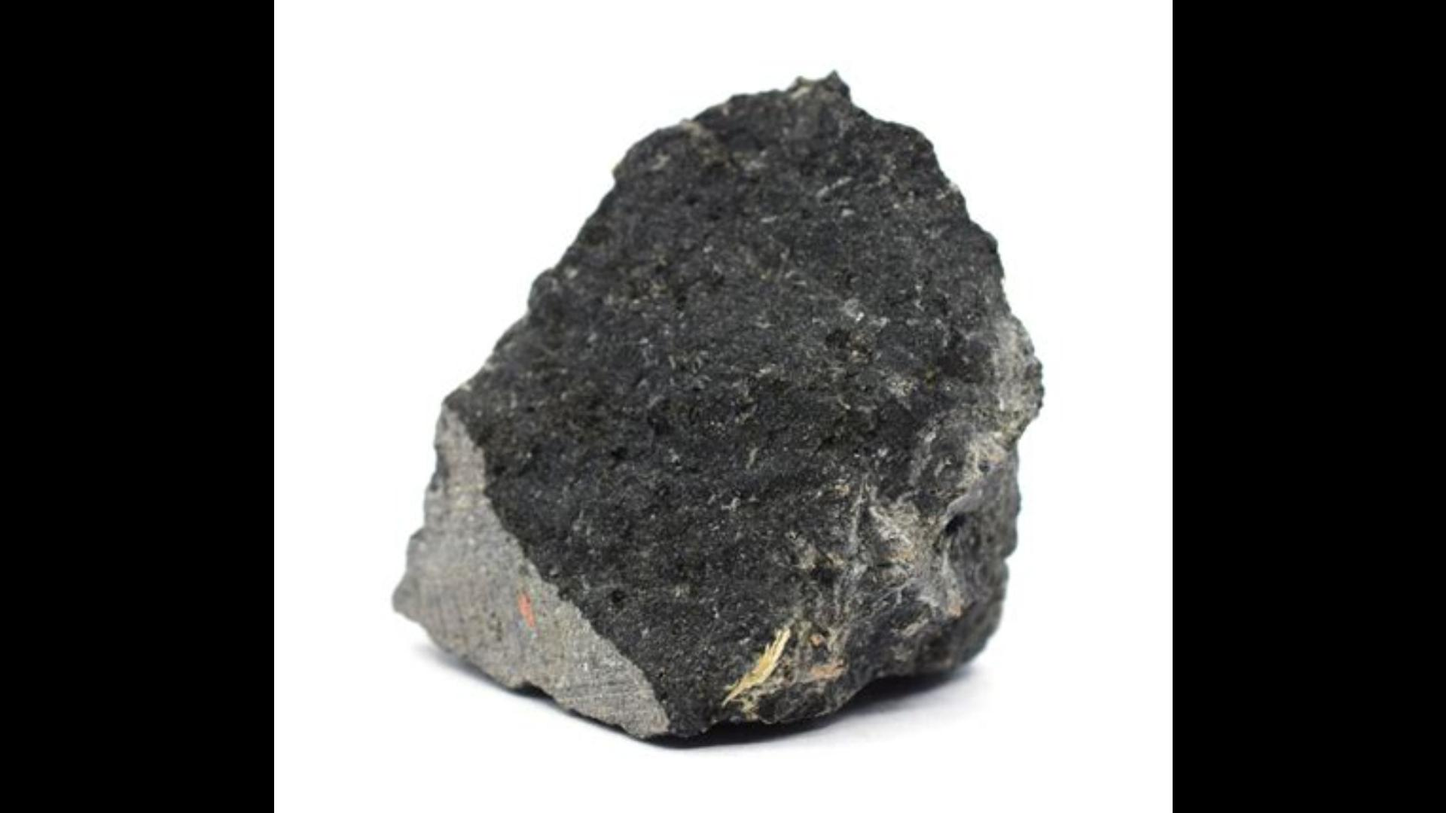rock: (395, 78, 1037, 733)
